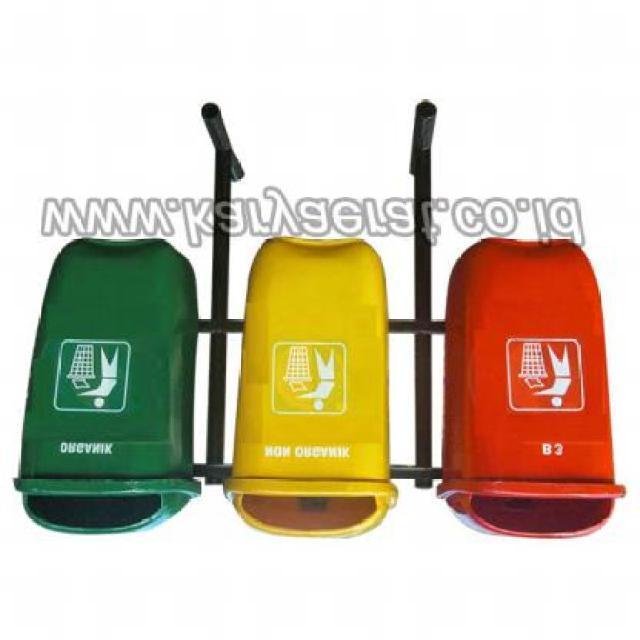garbage container: (2, 234, 213, 550), (438, 232, 632, 552), (220, 232, 408, 553)
